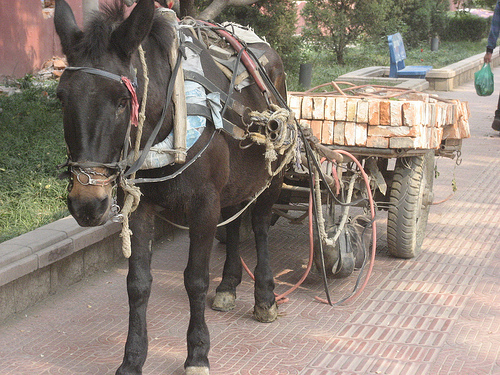horse: (50, 0, 308, 375)
